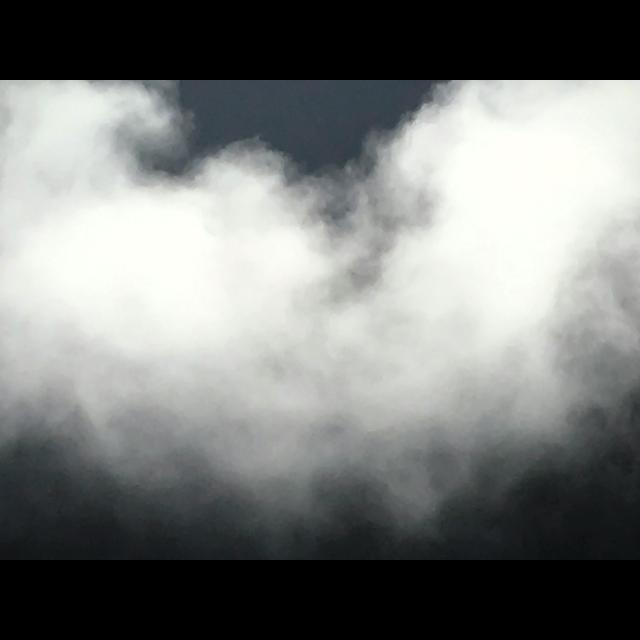smoke: (0, 80, 640, 522)
